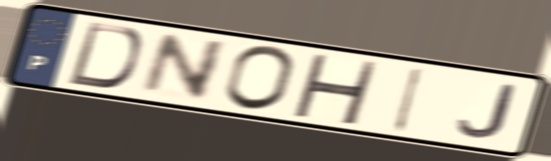D: (64, 19, 146, 91)
H: (288, 51, 381, 127)
I: (389, 65, 428, 134)
J: (454, 82, 520, 141)
N: (135, 32, 231, 104)
O: (220, 43, 298, 114)
